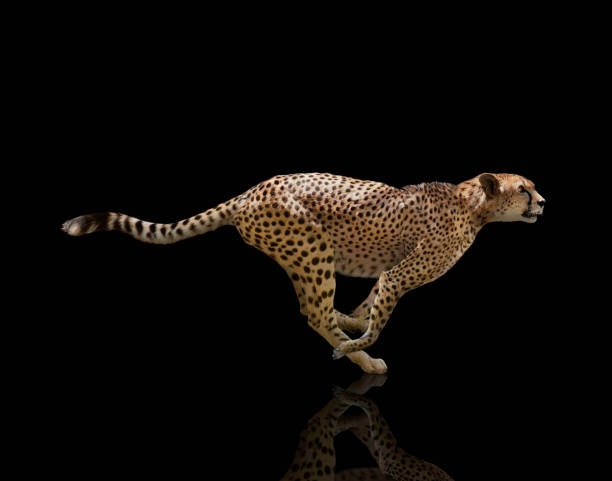cheetah: (468, 155, 555, 234)
